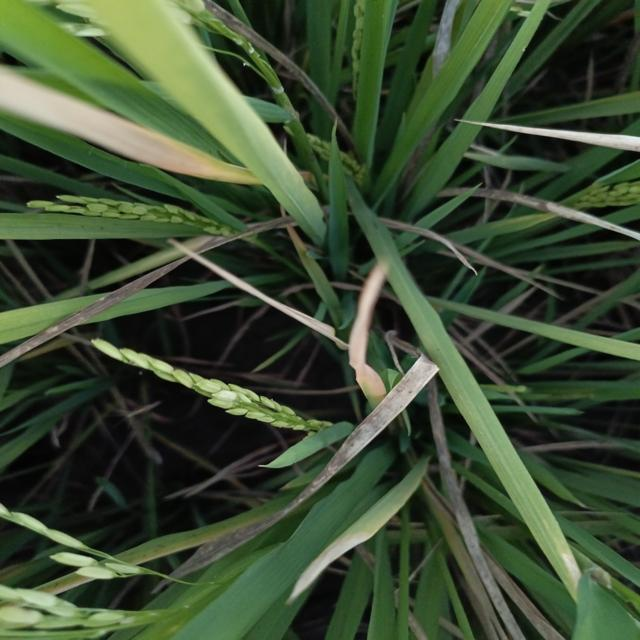Brown spot: (186, 275, 482, 567), (1, 51, 271, 220)
